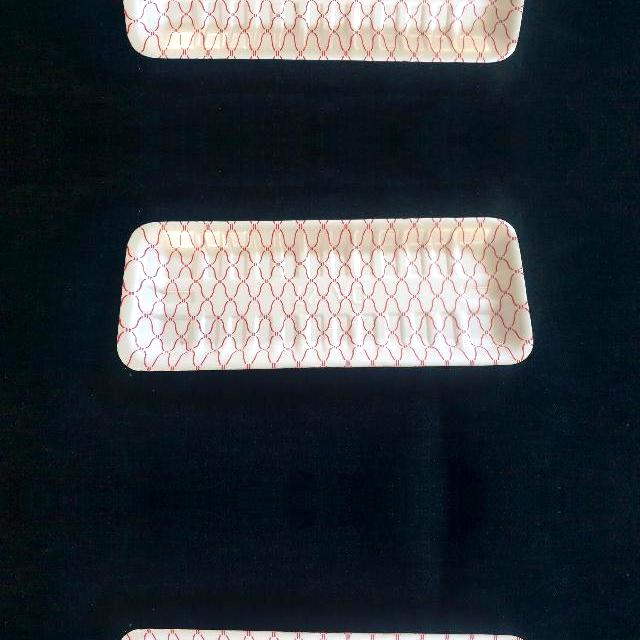Styrofoam: (116, 216, 534, 372), (116, 217, 534, 371), (116, 0, 533, 63), (123, 0, 525, 63)
